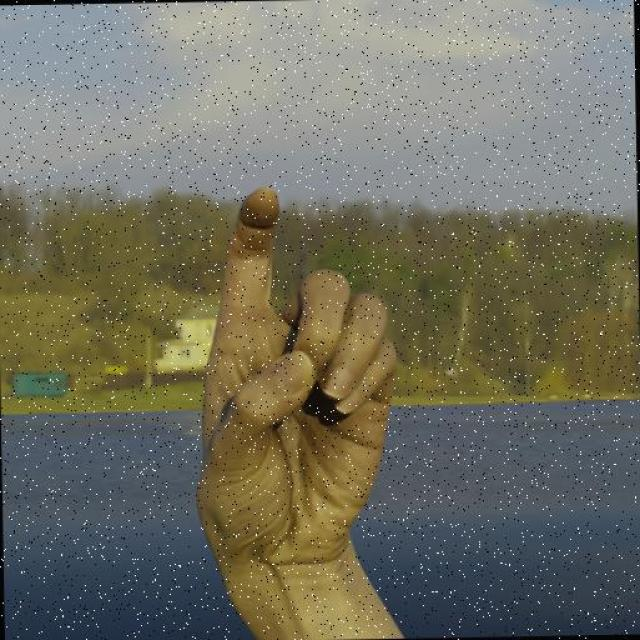X: (189, 189, 412, 632)
